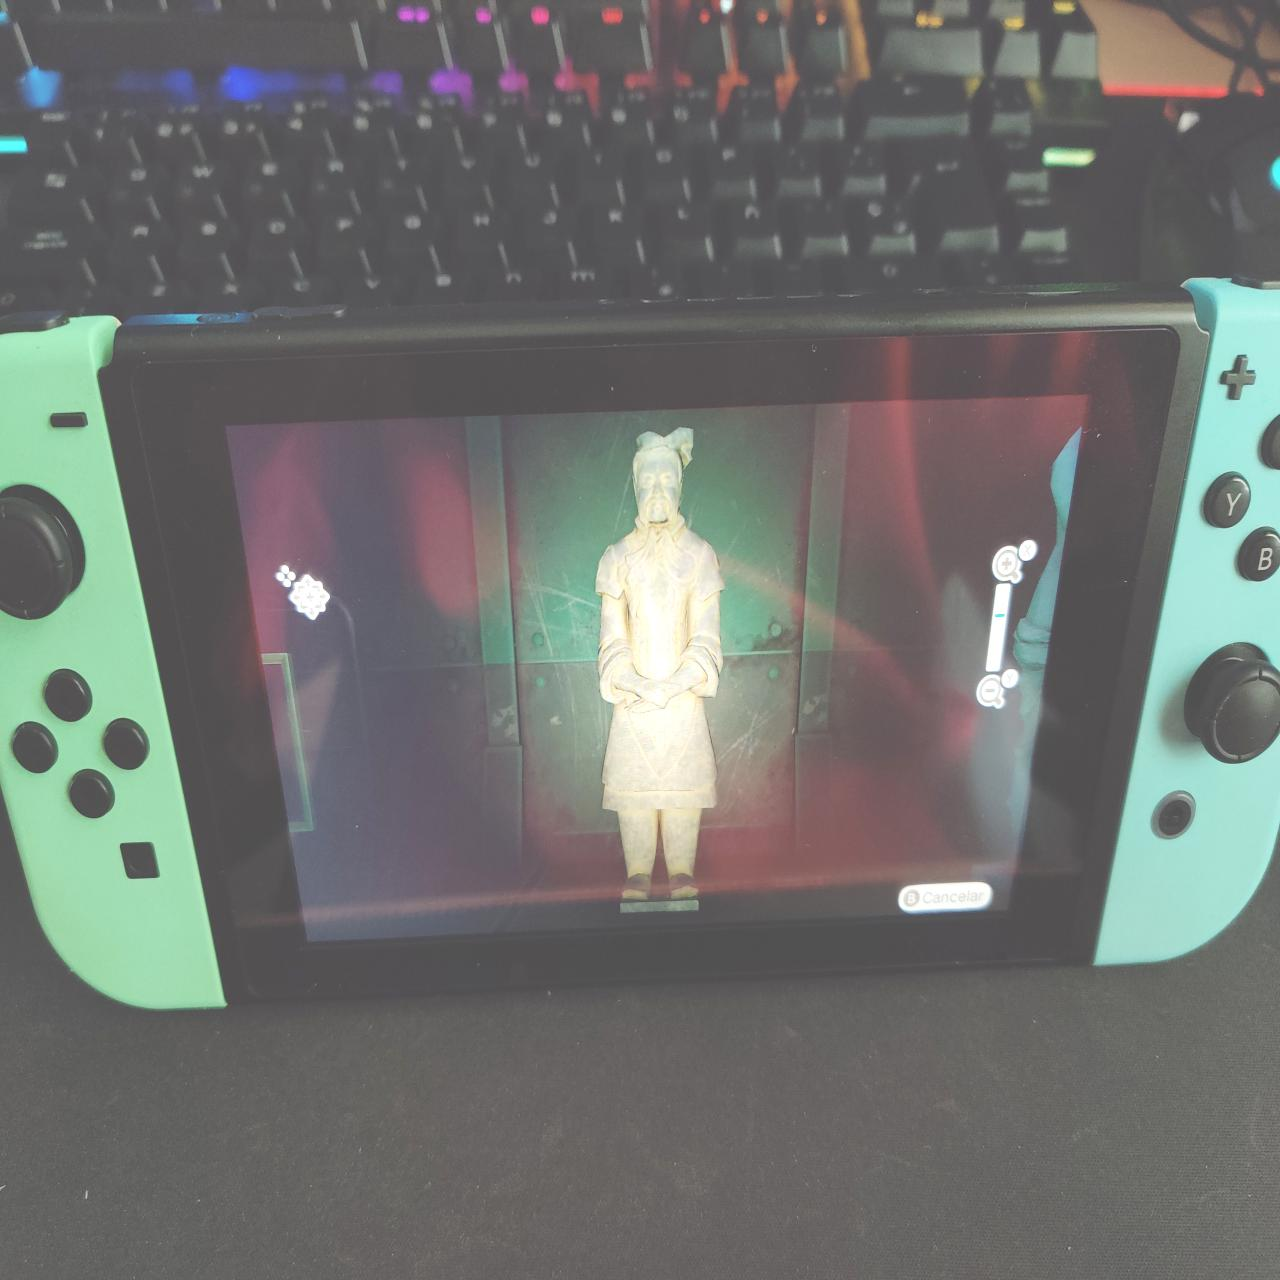Heibayo: (591, 421, 734, 919)
